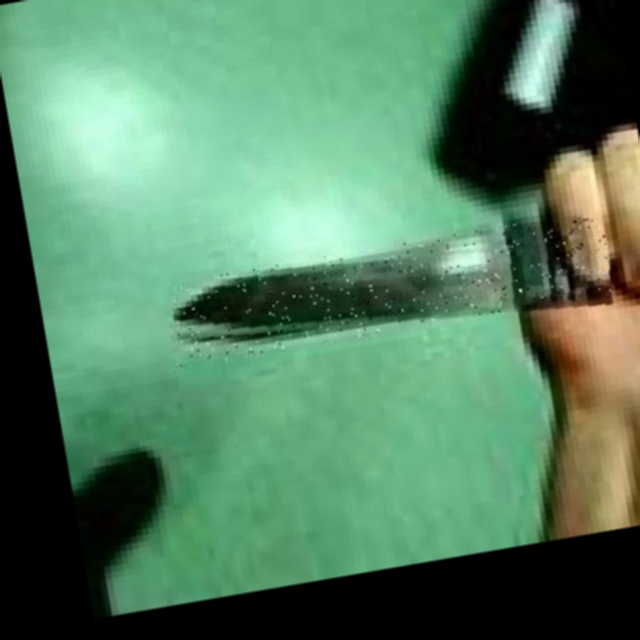Sharp-Object: (165, 210, 614, 368)
